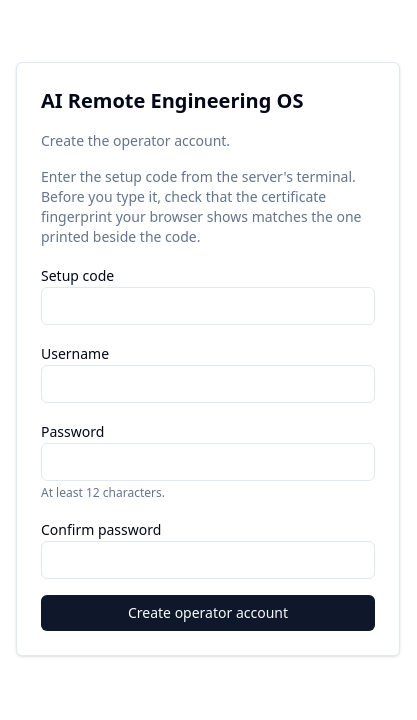
Test case: Setup form › shows the server's own words for an invalid or expired code, and stays on the form
This screenshot has width=417, height=720.
Type "abcde-fghjk-mnpqr-stvwx" into the field labelled "Setup code" at (208,306), box [41,287,375,325]
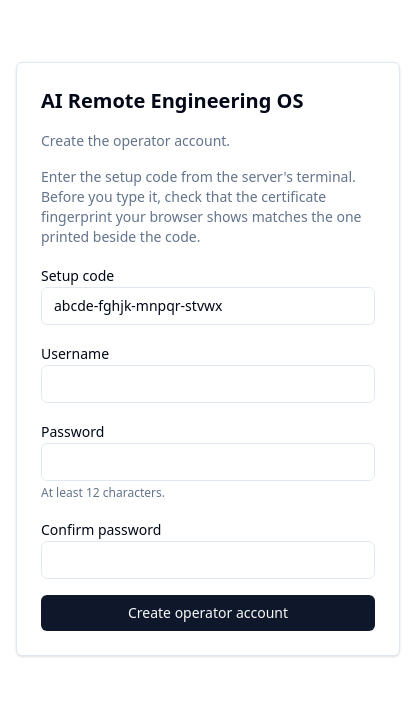
Type "admin" into the field labelled "Username" at (208,384), box [41,365,375,403]
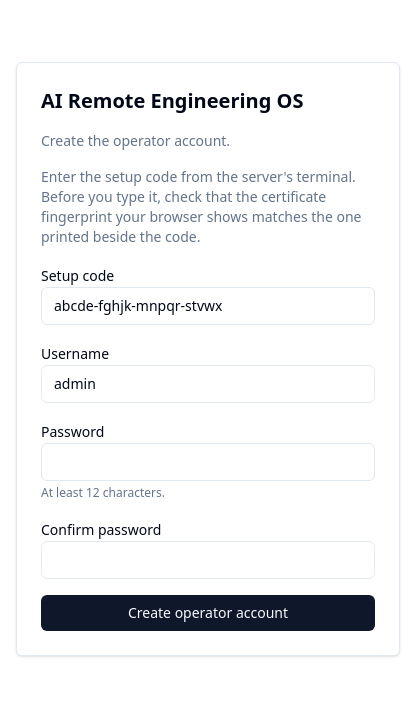
Type "correct horse battery" into the password field labelled "Password" at (208,462), box [41,443,375,481]
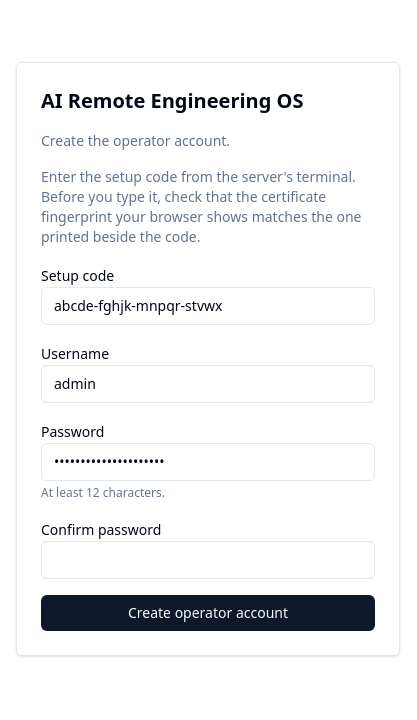
Type "correct horse battery" into the password field labelled "Confirm password" at (208,560), box [41,541,375,579]
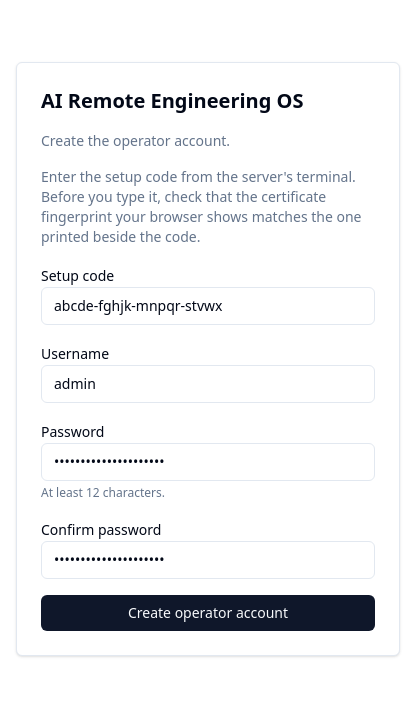
Click the button "Create operator account" at (208,613), box [41,595,375,631]
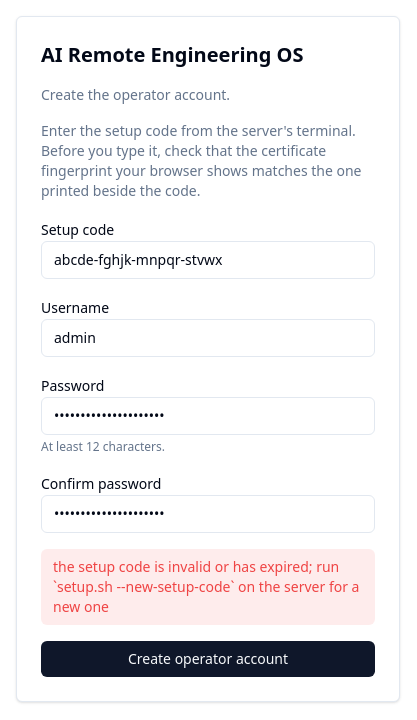
expect the message shows "setup.sh --new-setup-code": met, box [53,557,360,616]
